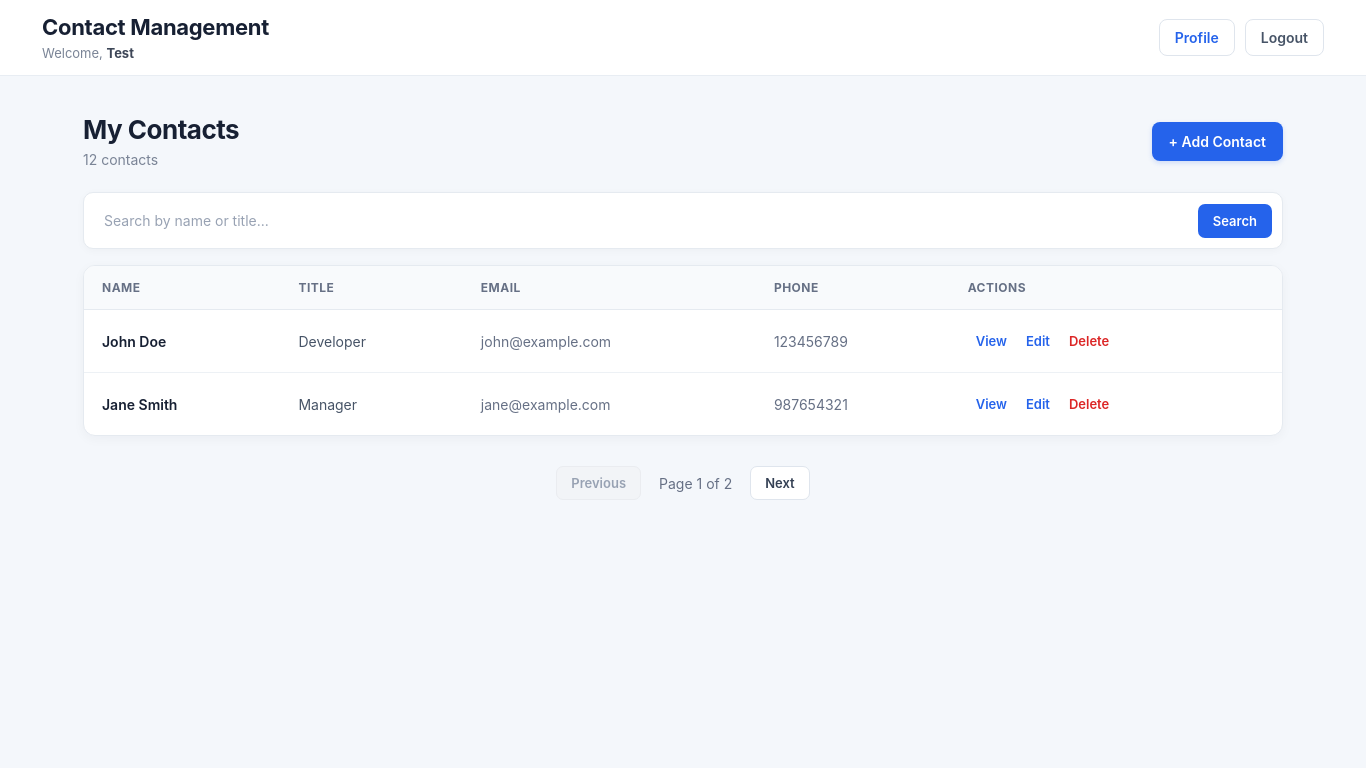
Contacts › clears an active search
This screenshot has width=1366, height=768.
Expected: the text "John Doe" is shown, [102,332,166,350]
Step 1. Type "John" into the search field with placeholder "Search by name or title..." → {"x": 641, "y": 220}, box [94,203,1188,238]
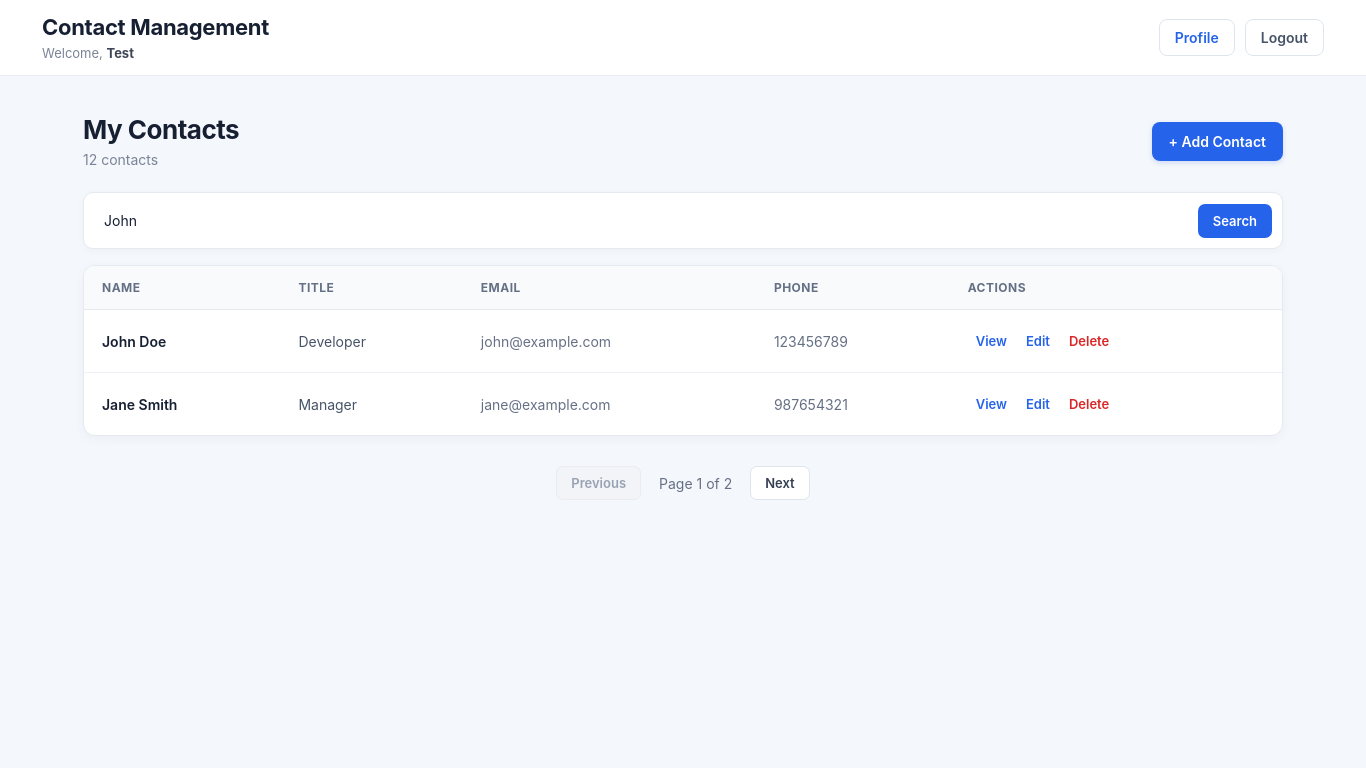
Step 2. Click the button "Search" → {"x": 1235, "y": 220}, box [1198,204,1272,238]
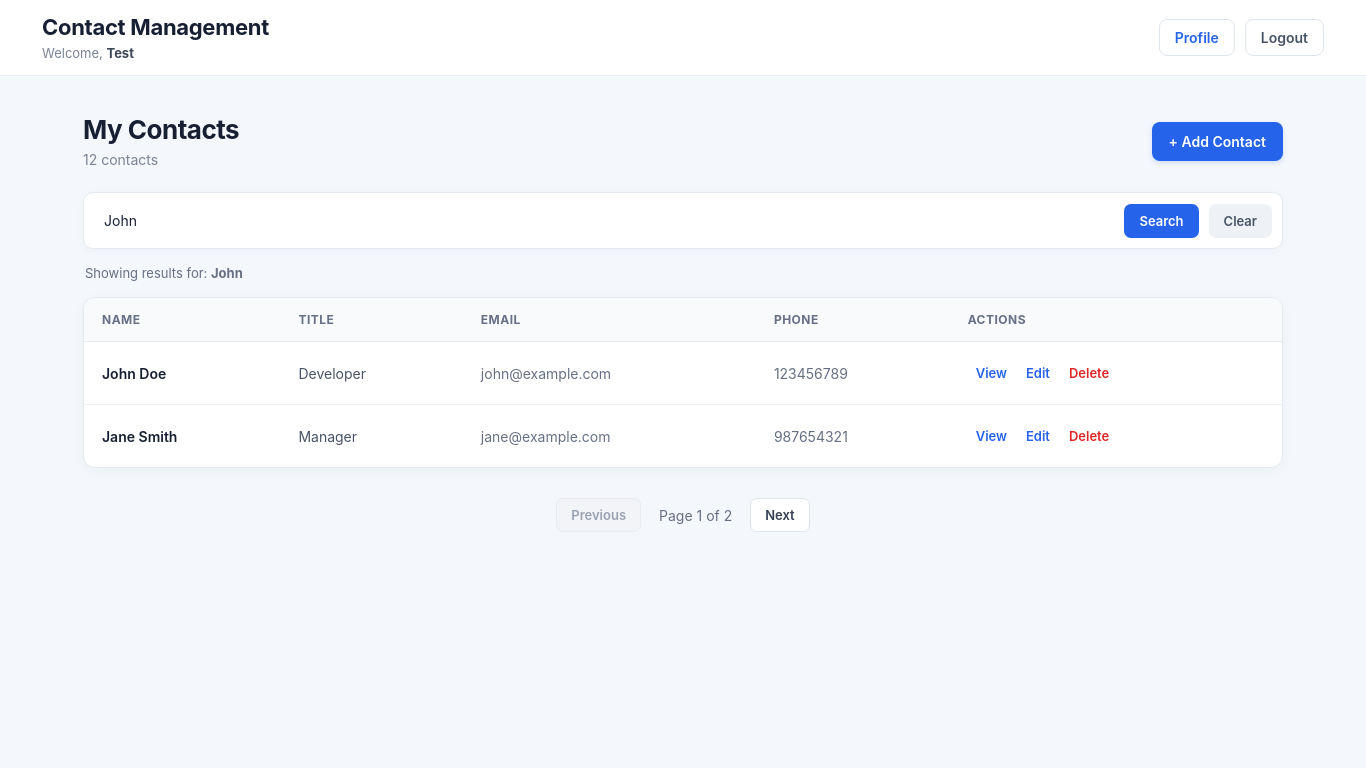
Step 3. Click the button "Clear" → {"x": 1240, "y": 220}, box [1209,204,1272,238]
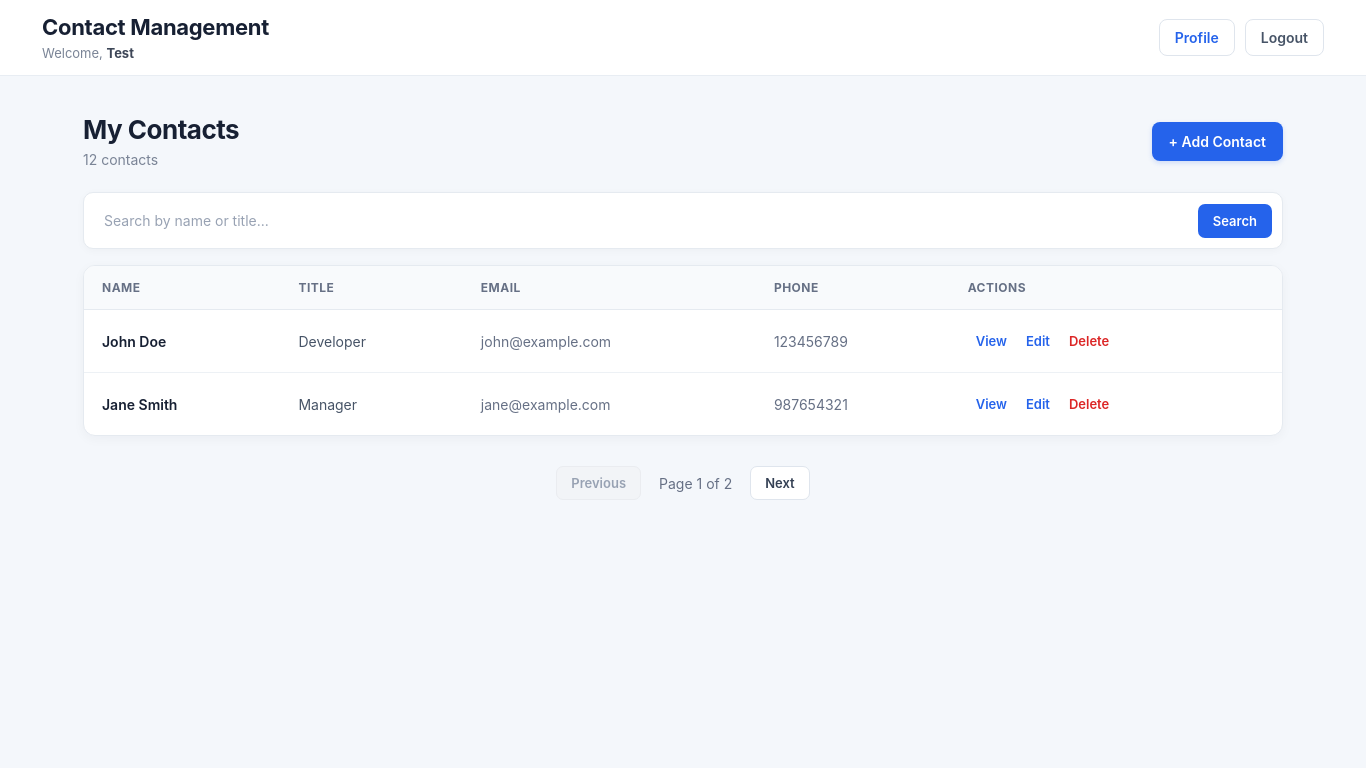
Expected: the search field with placeholder "Search by name or title..." is empty, [94,203,1188,238]
